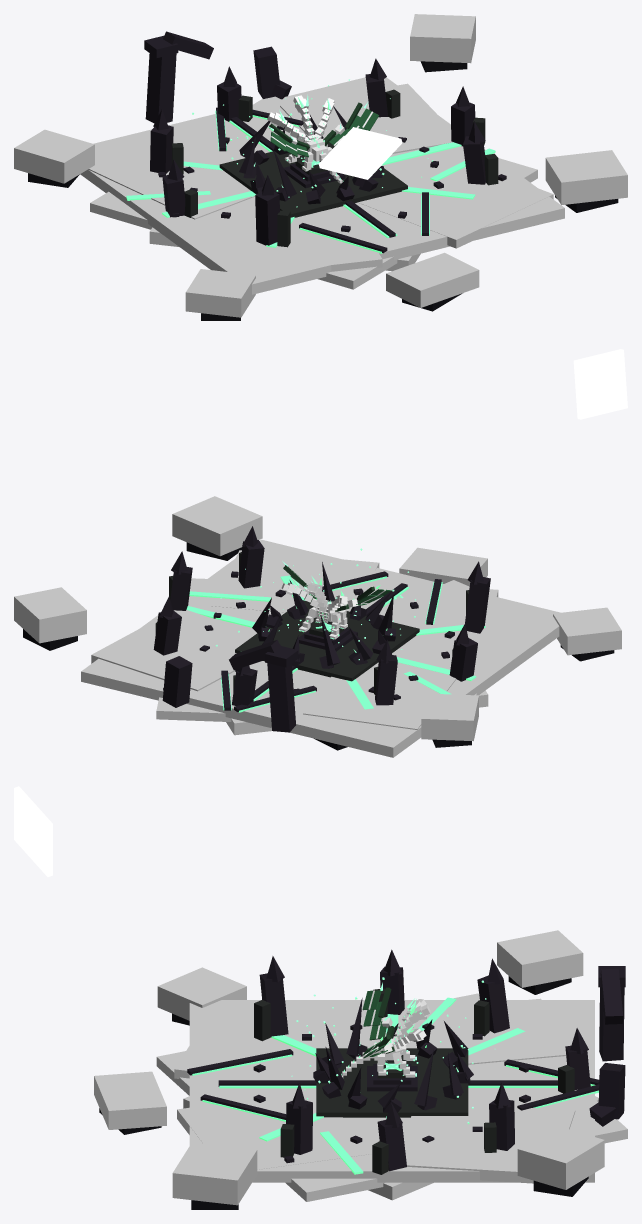
The model's file is dragon_boss_arena.glb.
3 renders of one model, top to bottom at view 1: azimuth 30°, elevation 25°; view 2: azimuth 150°, elevation 25°; view 3: azimuth 270°, elevation 25°, orthographic. The views are drawn at different scales.
Parts seen in each view (by area): view 1: Tectonic_Slab_1, Tectonic_Slab_7, Tectonic_Slab_6, Tectonic_Slab_4, Tectonic_Slab_5, Void_Island_Top_4, Caldera_Rim_Outer, Void_Island_Top_5, Void_Island_Top_1, Void_Island_Top_2, Void_Island_Top_3, Square_Moon (+15 smaller); view 2: Tectonic_Slab_1, Tectonic_Slab_5, Tectonic_Slab_4, Tectonic_Slab_6, Tectonic_Slab_7, Caldera_Rim_Outer, Void_Island_Top_4, Square_Moon, Void_Island_Top_2, Void_Island_Top_3, Void_Island_Top_1, Void_Island_Top_5 (+12 smaller); view 3: Tectonic_Slab_1, Tectonic_Slab_5, Tectonic_Slab_6, Tectonic_Slab_7, Tectonic_Slab_4, Caldera_Rim_Outer, Void_Island_Top_4, Void_Island_Top_2, Void_Island_Top_1, Void_Island_Top_5, Tectonic_Slab_2, Void_Island_Top_3 (+14 smaller).
Boxes of the visible parts, x1,y1,x2,y2 form: Tectonic_Slab_1: [80, 77, 564, 294]; Tectonic_Slab_7: [358, 155, 553, 248]; Tectonic_Slab_6: [201, 206, 382, 274]; Tectonic_Slab_4: [88, 133, 255, 219]; Tectonic_Slab_5: [280, 83, 453, 153]; Void_Island_Top_4: [545, 150, 627, 205]; Caldera_Rim_Outer: [219, 142, 407, 217]; Void_Island_Top_5: [386, 252, 479, 307]; Void_Island_Top_1: [14, 129, 94, 183]; Void_Island_Top_2: [410, 14, 475, 63]; Void_Island_Top_3: [185, 269, 255, 317]; Square_Moon: [318, 127, 402, 179]; Tectonic_Slab_1: [81, 539, 560, 757]; Tectonic_Slab_5: [91, 610, 256, 691]; Tectonic_Slab_4: [303, 656, 456, 729]; Tectonic_Slab_6: [379, 580, 545, 659]; Tectonic_Slab_7: [211, 550, 379, 612]; Caldera_Rim_Outer: [235, 600, 419, 681]; Void_Island_Top_4: [172, 496, 262, 556]; Square_Moon: [573, 349, 627, 419]; Void_Island_Top_2: [14, 587, 86, 643]; Void_Island_Top_3: [553, 607, 621, 655]; Void_Island_Top_1: [421, 693, 478, 741]; Void_Island_Top_5: [399, 547, 487, 586]; Tectonic_Slab_1: [189, 1000, 594, 1182]; Tectonic_Slab_5: [404, 1104, 575, 1183]; Tectonic_Slab_6: [174, 1000, 352, 1080]; Tectonic_Slab_7: [177, 1090, 370, 1169]; Tectonic_Slab_4: [379, 998, 566, 1064]; Caldera_Rim_Outer: [316, 1048, 468, 1117]; Void_Island_Top_4: [172, 1142, 257, 1205]; Void_Island_Top_2: [517, 1125, 604, 1189]; Void_Island_Top_1: [497, 930, 583, 987]; Void_Island_Top_5: [94, 1071, 166, 1129]; Tectonic_Slab_2: [156, 993, 627, 1201]; Void_Island_Top_3: [157, 967, 246, 1020].
Bounding box in the file's own units: 140 × 76.48 × 145.
